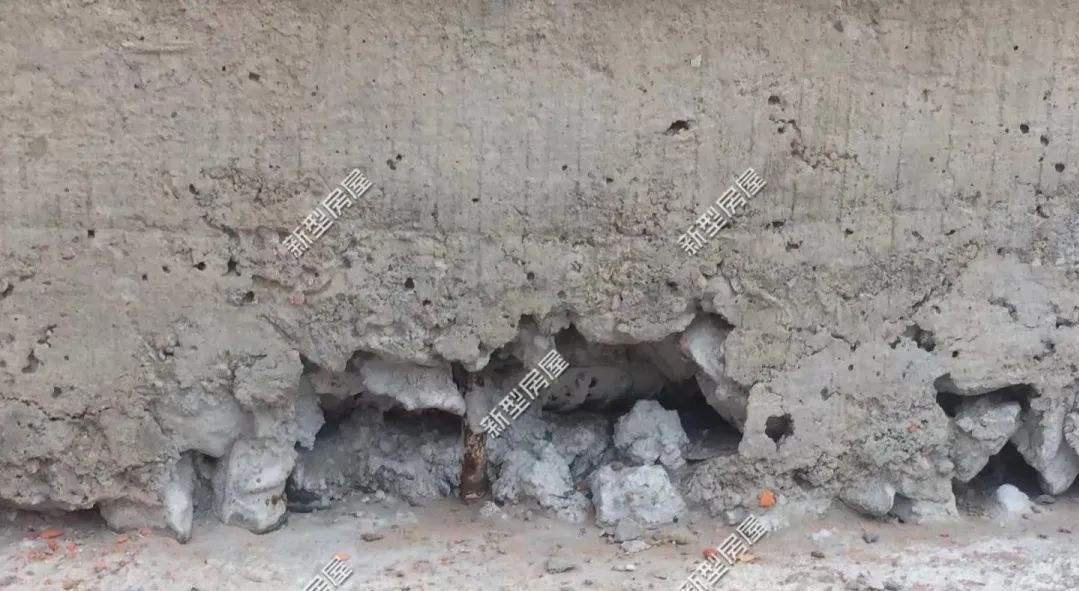Exposed reinforcement: (458, 421, 491, 504)
Spalling: (1, 244, 1079, 548), (659, 89, 1079, 299), (1, 259, 255, 400), (186, 150, 618, 206), (402, 266, 535, 331), (843, 320, 960, 379)
